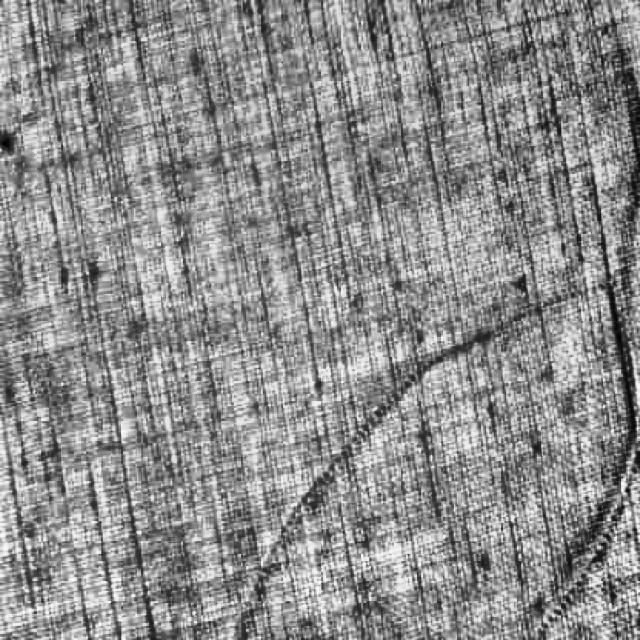thread_error: (215, 278, 608, 640), (507, 124, 638, 640)
